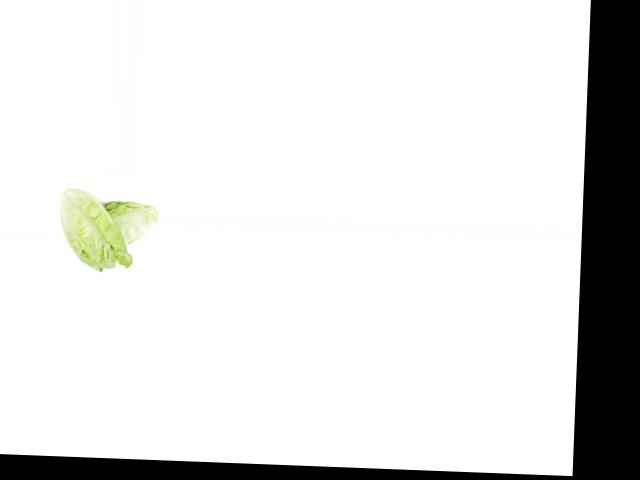lettuce: (101, 196, 161, 248)
